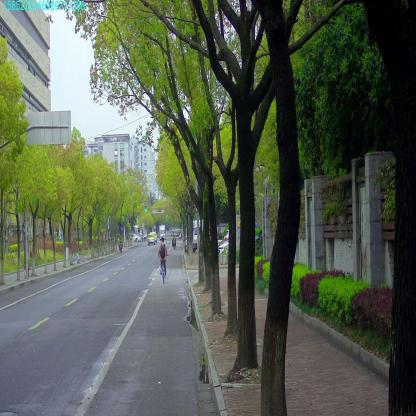traffic-light: (145, 202, 147, 212)
